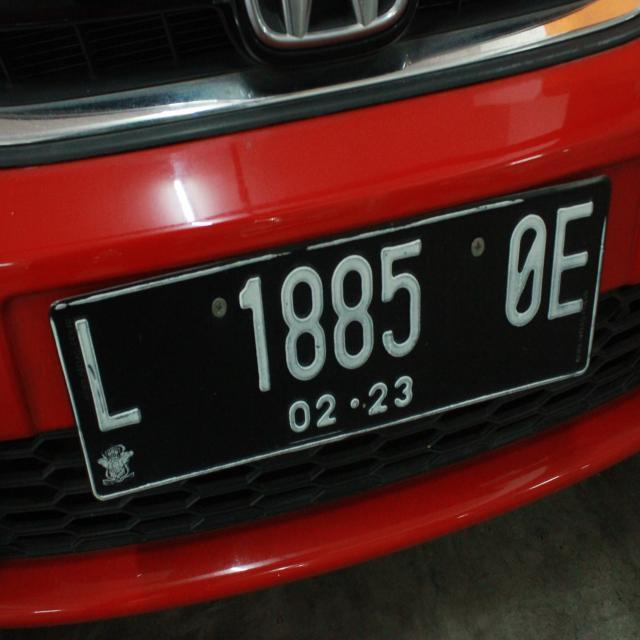1: (230, 268, 276, 396)
5: (376, 236, 428, 362)
8: (268, 259, 329, 387), (322, 251, 377, 376)
E: (545, 194, 594, 330)
L: (68, 300, 146, 436)
O: (498, 207, 546, 328)
